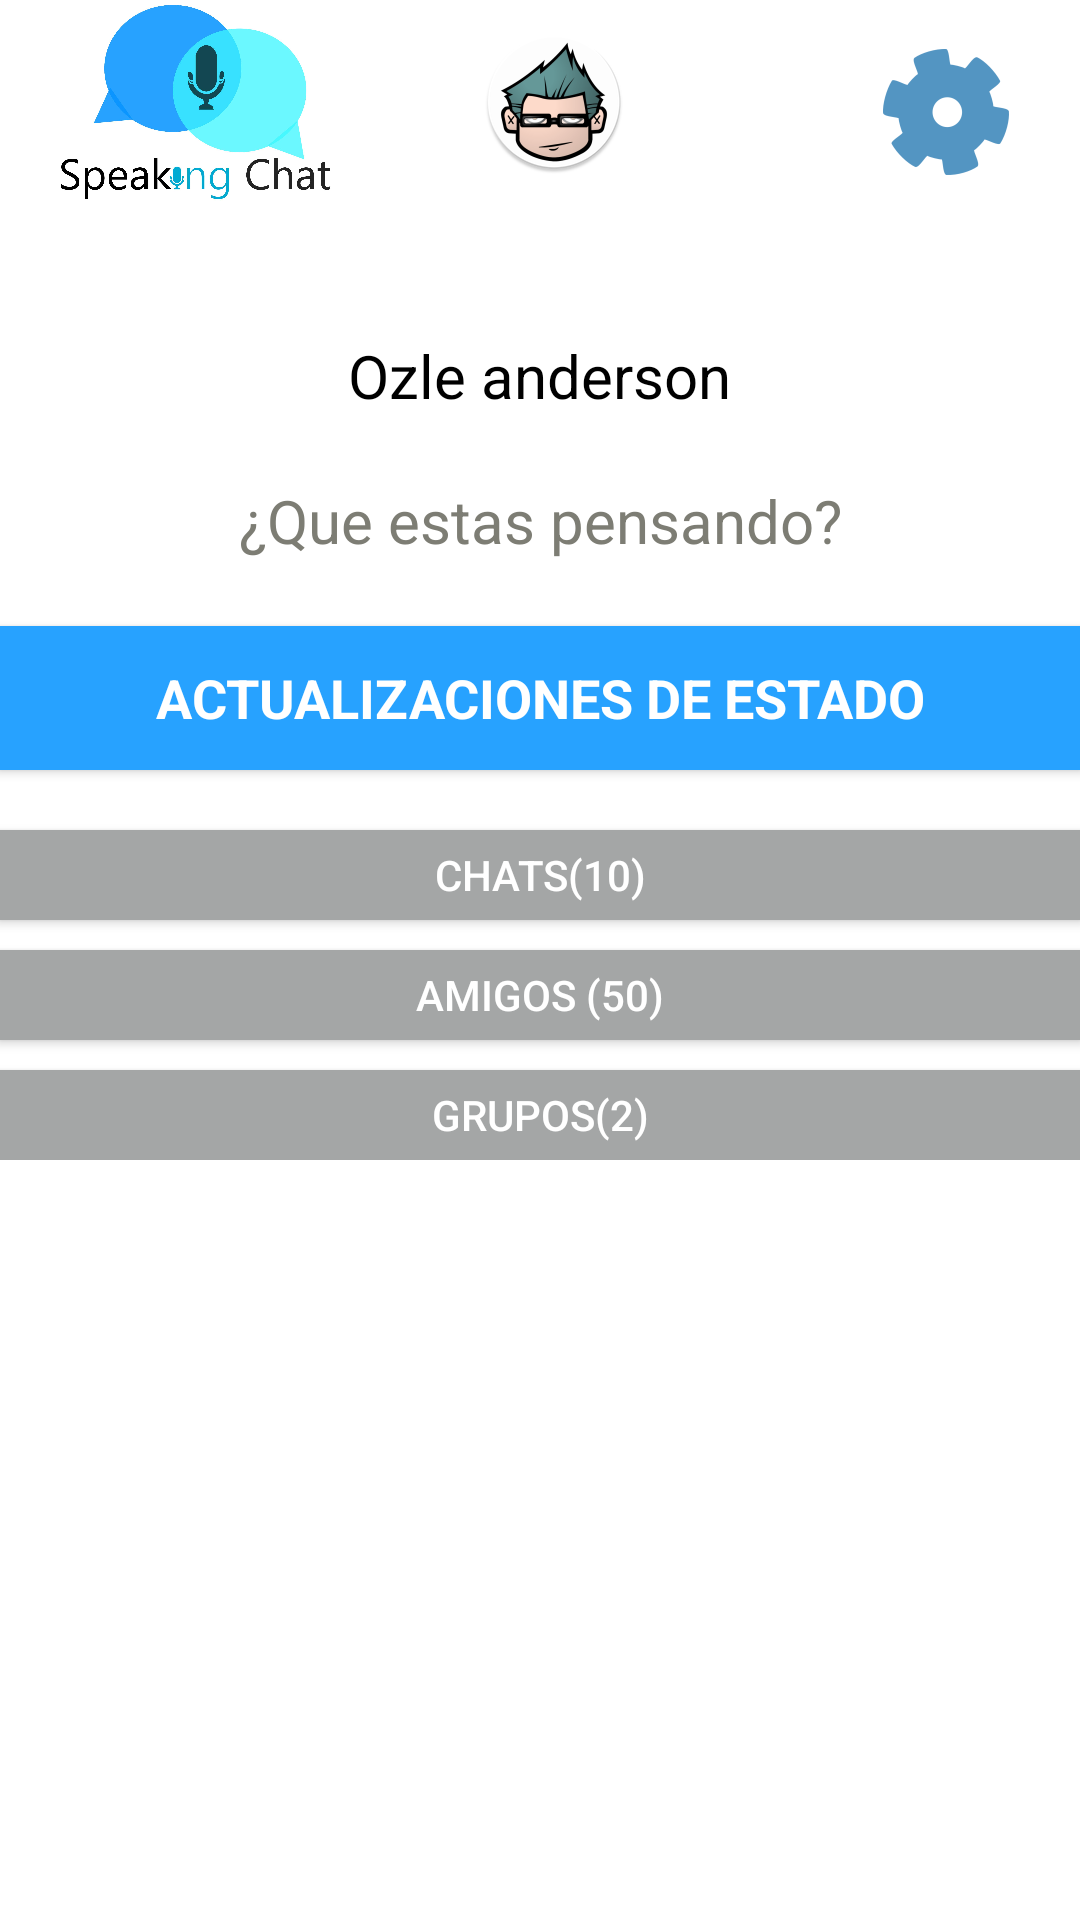

Screen size 1080*1920. Icon name, then its center in pixels as [x,y]:
ajustes: [946,112]
